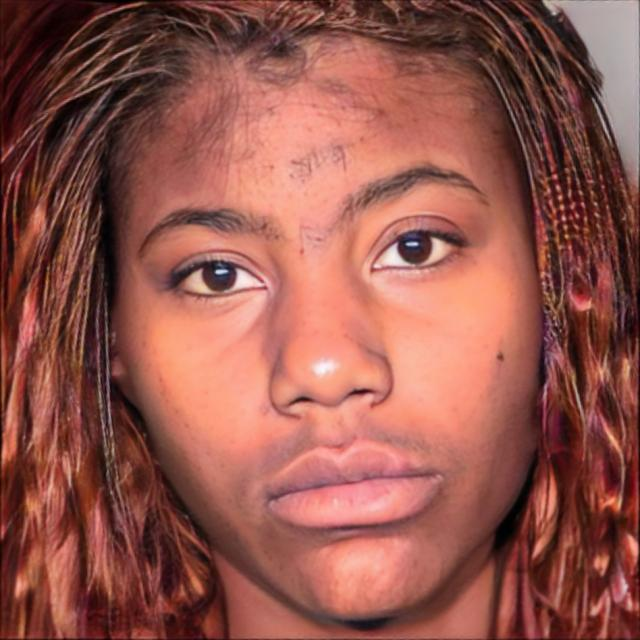neutral: (115, 33, 550, 619)
